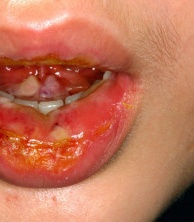SJS-TEN: (0, 0, 159, 222)
